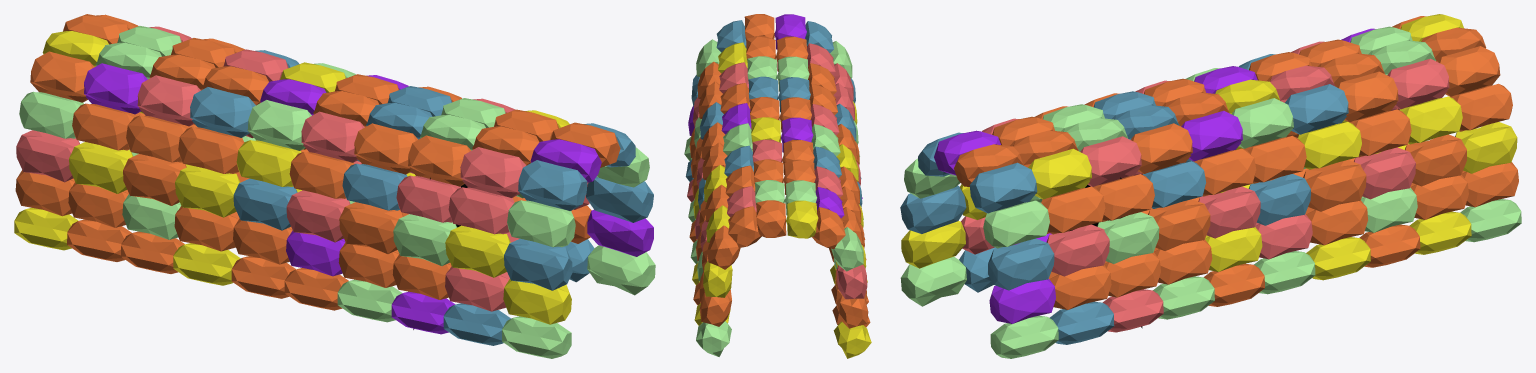
File: PartyTunnel.fbx
3 views of the same model, side by side, from view 1: azimuth 30°, elevation 25°; view 2: azimuth 150°, elevation 25°; view 3: azimuth 270°, elevation 25° (orthographic). The views are drawn at different scales.
Visible parts, largest first — view 1: Tunnels.001; view 2: Tunnels.001; view 3: Tunnels.001.
Part boxes in pixels (<box>): Tunnels.001: <box>14,14,655,358</box>; Tunnels.001: <box>684,14,871,358</box>; Tunnels.001: <box>900,14,1521,358</box>.
Size of the model in its own units: 980 by 414 by 1241.
